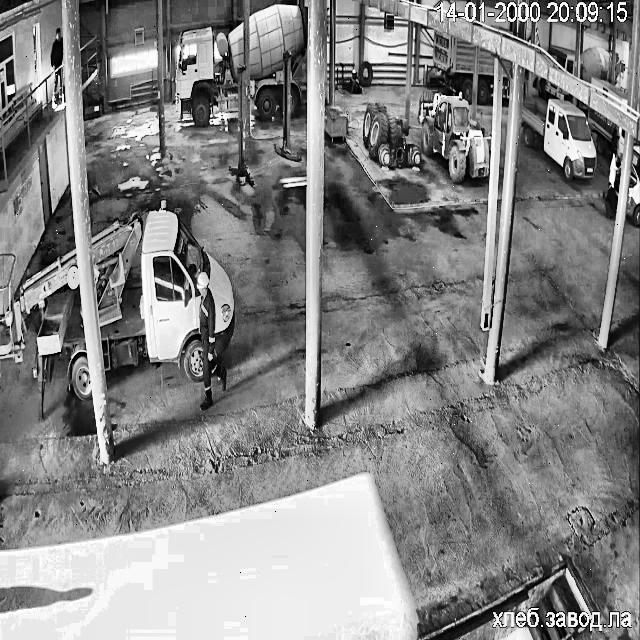class4: (196, 272, 226, 410), (604, 153, 620, 218), (50, 28, 63, 103)
class6: (418, 92, 489, 181), (362, 102, 420, 165)
class7: (92, 201, 233, 379), (0, 251, 91, 418), (176, 22, 244, 124), (247, 4, 306, 117), (521, 100, 596, 178), (433, 29, 473, 101), (588, 108, 624, 157), (580, 46, 611, 83), (625, 156, 640, 227), (592, 78, 628, 105), (477, 48, 494, 103), (533, 77, 567, 99), (548, 45, 574, 73), (604, 189, 619, 218), (500, 61, 510, 98), (616, 54, 624, 76), (634, 143, 638, 153), (0, 256, 7, 260), (615, 185, 617, 188), (8, 256, 10, 257)
truck: (92, 214, 141, 324), (229, 67, 252, 186), (276, 52, 300, 161)
